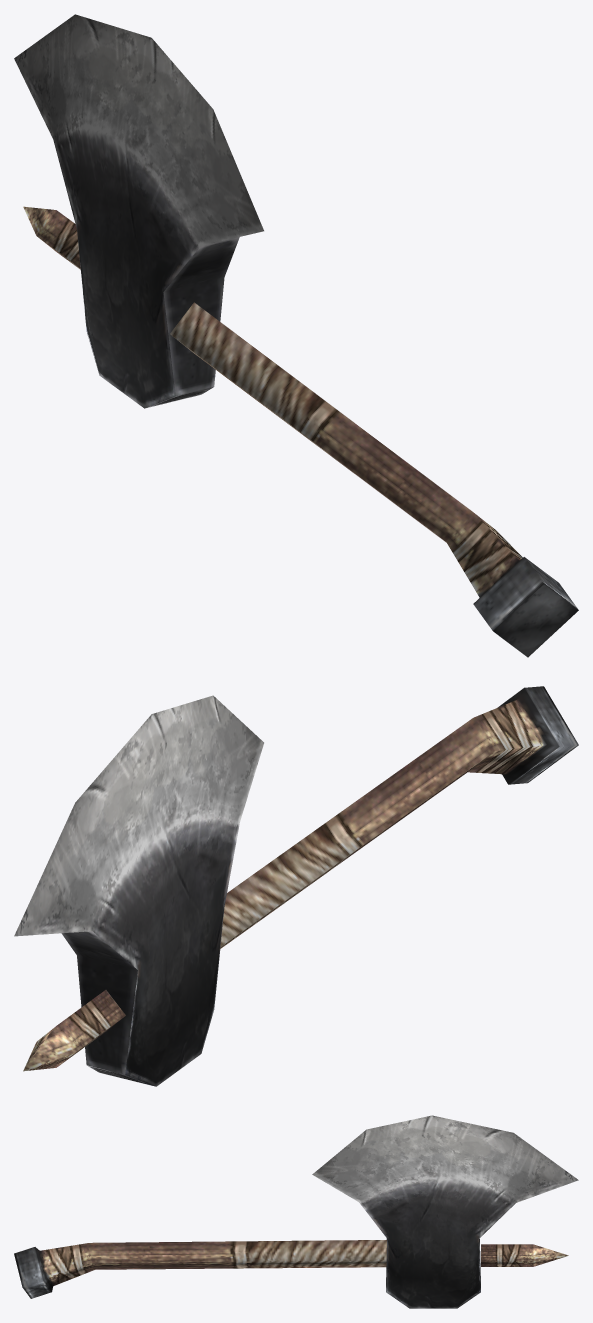
File: futou_famuchang_dy_01.fbx
3 views of the same model, one above another, from view 1: azimuth 30°, elevation 25°; view 2: azimuth 150°, elevation 25°; view 3: azimuth 270°, elevation 25° (orthographic). The views are drawn at different scales.
Visible parts, largest first — view 1: futou_famuchang_dy_01; view 2: futou_famuchang_dy_01; view 3: futou_famuchang_dy_01.
Part boxes in pixels (x1,y1,x2,y2): futou_famuchang_dy_01: (14, 14, 578, 657); futou_famuchang_dy_01: (14, 686, 578, 1086); futou_famuchang_dy_01: (14, 1115, 578, 1308).
Size of what is drawn, in the model's own units: 18.94 by 73.27 by 202.
